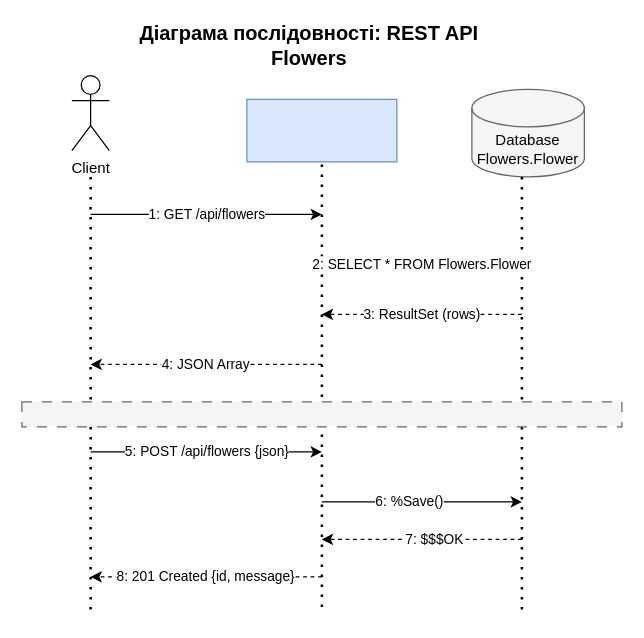
Image size: 644x638. Some labels were removed from this diagram. The centre of each missing label's shape, as x and y in pixels:
"POST /flowers (Create)" belongs at pixel 321 414.
"REST API Flowers.API.REST" belongs at pixel 321 130.
